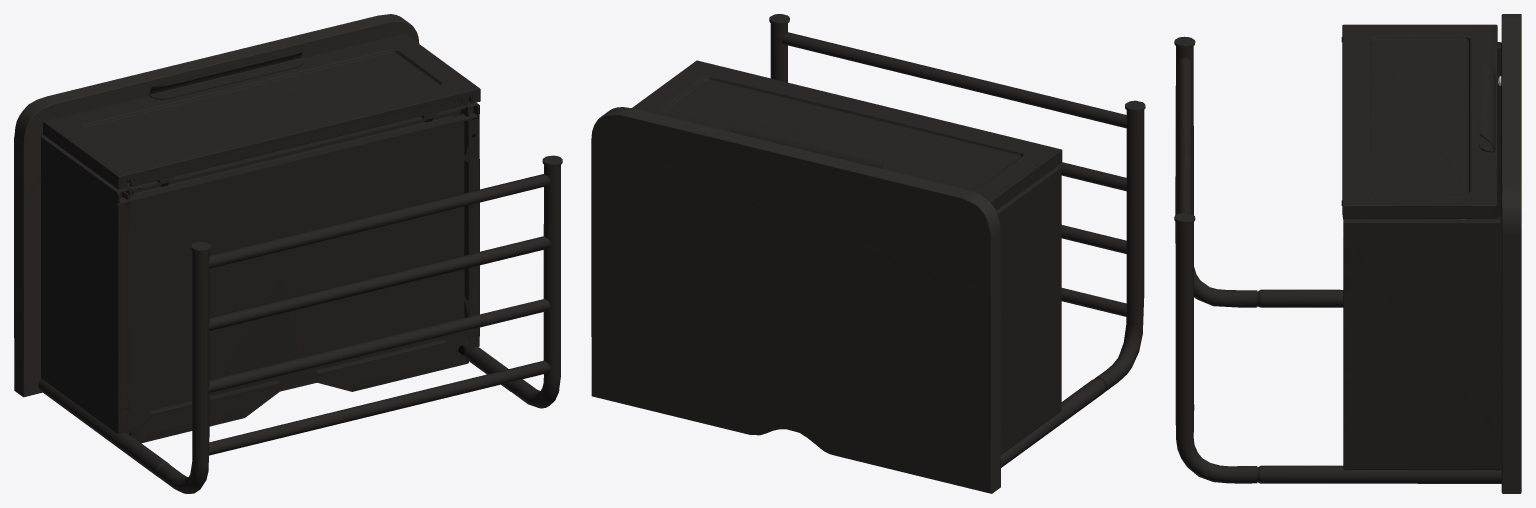
3 renders of one model, left to right at view 1: azimuth 30°, elevation 25°; view 2: azimuth 150°, elevation 25°; view 3: azimuth 270°, elevation 25°, orthographic. The views are drawn at different scales.
Visible parts, largest first — view 1: ASY_ART_00603114_S01_NV01; view 2: ASY_ART_00603114_S01_NV01; view 3: ASY_ART_00603114_S01_NV01.
Boxes of the visible parts, left/top/right/bottom form: ASY_ART_00603114_S01_NV01: left=14, top=14, right=562, bottom=493; ASY_ART_00603114_S01_NV01: left=591, top=14, right=1145, bottom=493; ASY_ART_00603114_S01_NV01: left=1174, top=14, right=1521, bottom=493.
Bounding box in the file's own units: 0.42 × 0.2921 × 0.3115.
1 material, 1 textured.
